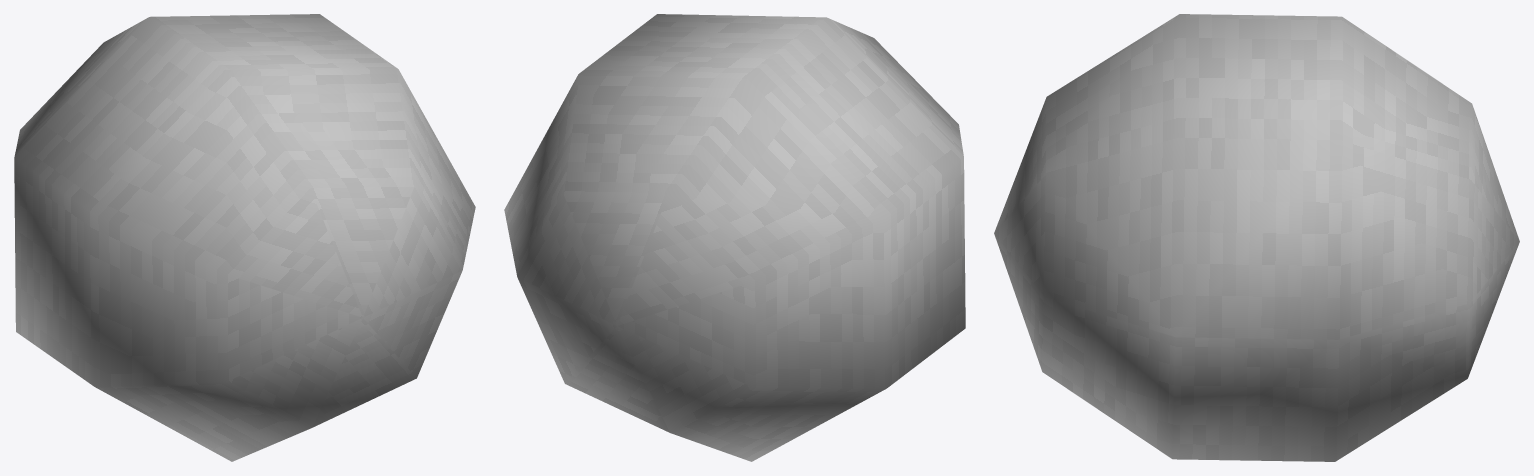
The model's file is coconut.obj.
3 views of the same model, side by side, from view 1: azimuth 30°, elevation 25°; view 2: azimuth 150°, elevation 25°; view 3: azimuth 270°, elevation 25° (orthographic). The views are drawn at different scales.
Parts seen in each view (by area): view 1: Sphere02; view 2: Sphere02; view 3: Sphere02.
Boxes of the visible parts, x1=… form: Sphere02: x1=14, y1=14, x2=475, y2=461; Sphere02: x1=504, y1=14, x2=965, y2=461; Sphere02: x1=994, y1=14, x2=1519, y2=461.
Size of the model in its own units: 17.02 by 16.6 by 19.68.
